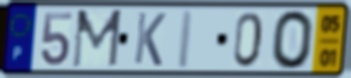0: (232, 11, 266, 69)
5: (40, 10, 75, 67)
I: (175, 8, 197, 70)
K: (132, 10, 168, 68)
M: (70, 7, 124, 70)
O: (270, 9, 316, 72)
